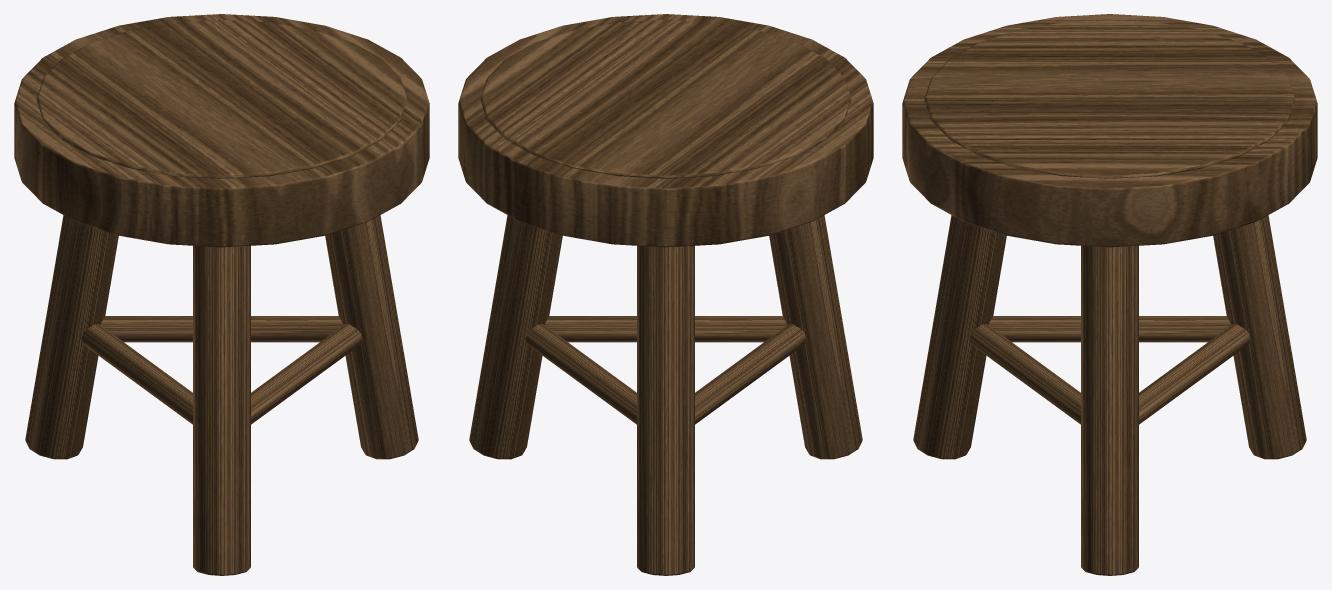
Rendered from tavern-stool.glb.
3 renders of one model, left to right at view 1: azimuth 30°, elevation 25°; view 2: azimuth 150°, elevation 25°; view 3: azimuth 270°, elevation 25°, orthographic.
Visible parts, largest first — view 1: tavern-stool - Tavern honey oak joinery runtime PBR, tavern-stool - Tavern worn oak floor runtime PBR, tavern-stool - Tavern aged timber framing runtime PBR; view 2: tavern-stool - Tavern honey oak joinery runtime PBR, tavern-stool - Tavern worn oak floor runtime PBR, tavern-stool - Tavern aged timber framing runtime PBR; view 3: tavern-stool - Tavern honey oak joinery runtime PBR, tavern-stool - Tavern worn oak floor runtime PBR, tavern-stool - Tavern aged timber framing runtime PBR.
Boxes of the visible parts, bbox=[...] form: tavern-stool - Tavern honey oak joinery runtime PBR: bbox=[14, 14, 429, 424]; tavern-stool - Tavern worn oak floor runtime PBR: bbox=[36, 19, 407, 178]; tavern-stool - Tavern aged timber framing runtime PBR: bbox=[25, 215, 418, 575]; tavern-stool - Tavern honey oak joinery runtime PBR: bbox=[458, 14, 873, 424]; tavern-stool - Tavern worn oak floor runtime PBR: bbox=[480, 19, 851, 178]; tavern-stool - Tavern aged timber framing runtime PBR: bbox=[469, 215, 862, 575]; tavern-stool - Tavern honey oak joinery runtime PBR: bbox=[902, 14, 1317, 424]; tavern-stool - Tavern worn oak floor runtime PBR: bbox=[924, 19, 1295, 178]; tavern-stool - Tavern aged timber framing runtime PBR: bbox=[913, 215, 1306, 575].
Bounding box in the file's own units: 0.487 × 0.492 × 0.47.
3 materials, 3 textured.
